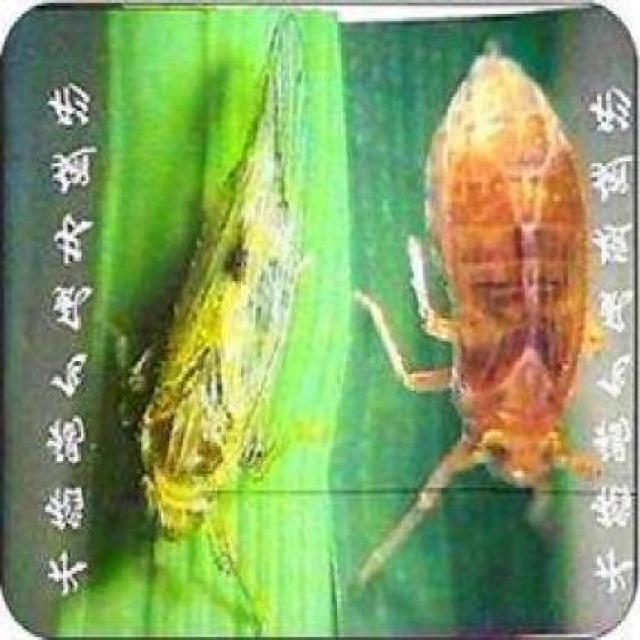brown-planthopper: (125, 18, 322, 544), (417, 37, 591, 511)
